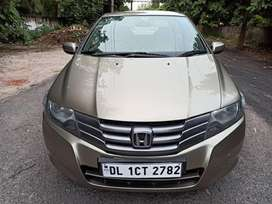DL1CT2782: (102, 162, 181, 177)
